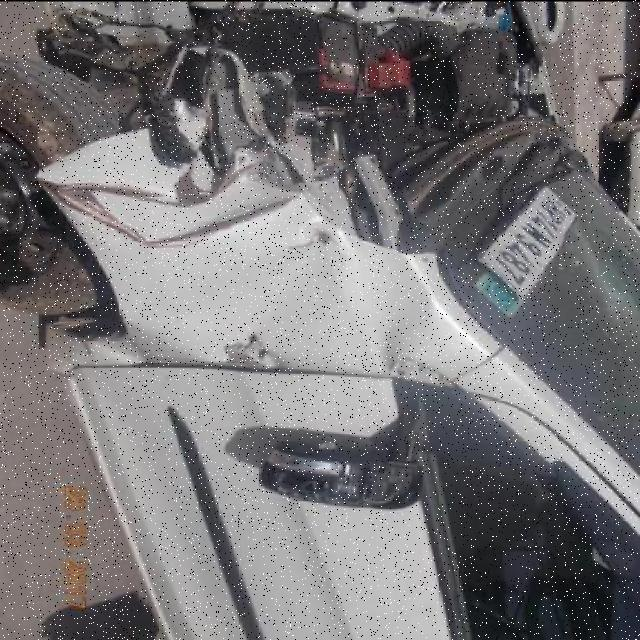damage: (50, 4, 534, 266), (569, 217, 635, 352), (75, 322, 207, 372), (384, 353, 467, 387), (222, 329, 287, 367)
